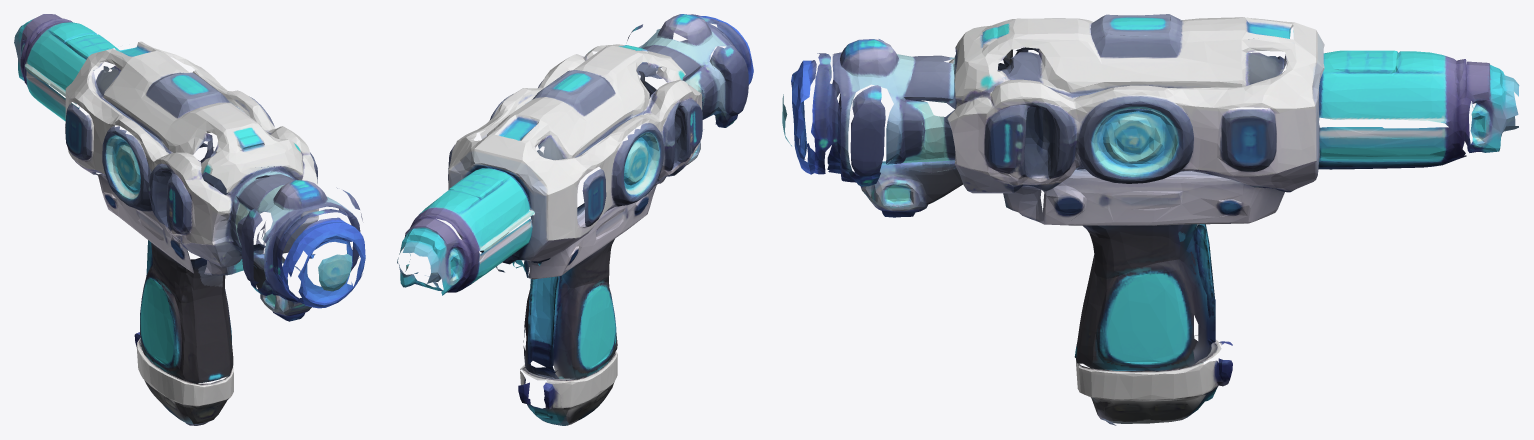
The model's file is pico_8.glb.
The picture shows the model from 3 angles, left to right: view 1: azimuth 30°, elevation 25°; view 2: azimuth 150°, elevation 25°; view 3: azimuth 270°, elevation 25°; orthographic projection. The views are drawn at different scales.
Parts seen in each view (by area): view 1: geometry_0; view 2: geometry_0; view 3: geometry_0.
Boxes of the visible parts, x1,y1,x2,y2 form: geometry_0: (14, 14, 365, 425); geometry_0: (397, 14, 753, 425); geometry_0: (782, 14, 1519, 425).
Bounding box in the file's own units: 0.2638 × 0.5965 × 0.9988.
1 material, 1 textured.
